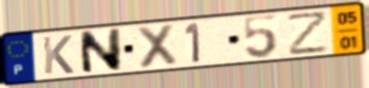1: (182, 21, 203, 65)
5: (243, 13, 281, 60)
K: (40, 34, 76, 76)
N: (77, 26, 124, 76)
X: (135, 22, 180, 71)
Z: (285, 9, 330, 57)
